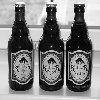beer: (5, 1, 39, 89)
